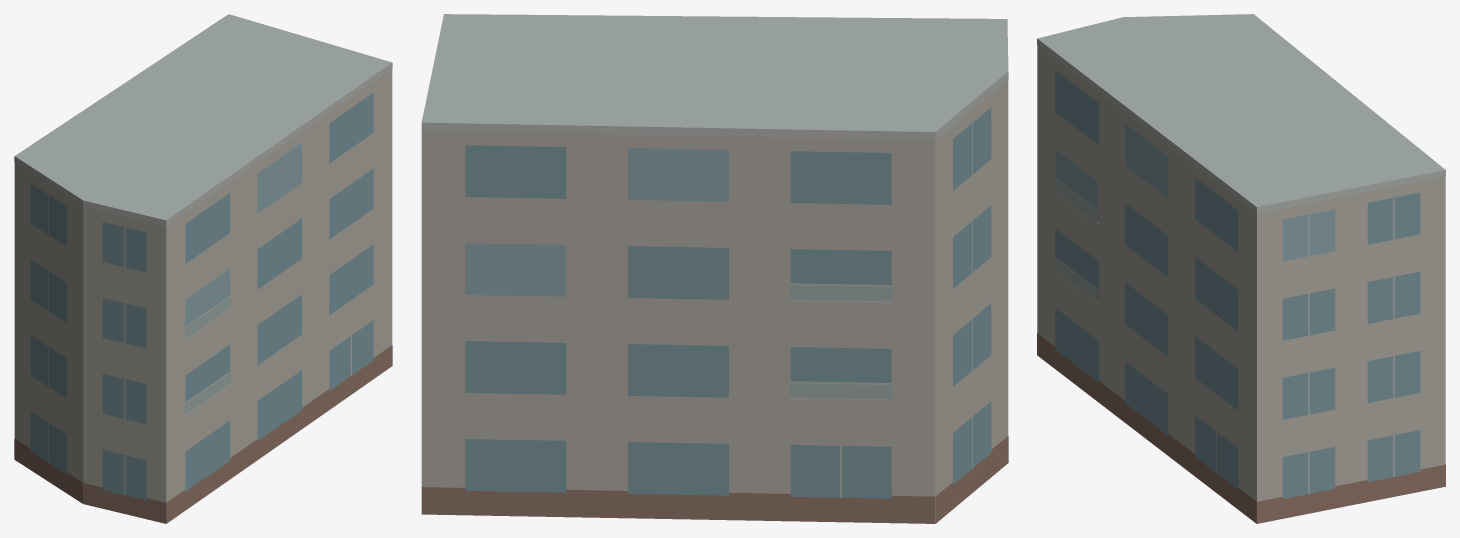
Rendered from survey-upis-32664536.glb.
3 views of the same model, side by side, from view 1: azimuth 30°, elevation 25°; view 2: azimuth 150°, elevation 25°; view 3: azimuth 270°, elevation 25° (orthographic). The views are drawn at different scales.
Visible parts, largest first — view 1: survey-upis-32664536.tmp; view 2: survey-upis-32664536.tmp; view 3: survey-upis-32664536.tmp.
Boxes of the visible parts, bbox=[...] form: survey-upis-32664536.tmp: bbox=[14, 14, 392, 523]; survey-upis-32664536.tmp: bbox=[421, 14, 1008, 523]; survey-upis-32664536.tmp: bbox=[1037, 14, 1445, 523].
Size of the model in its own units: 15.31 by 11.7 by 13.69.
